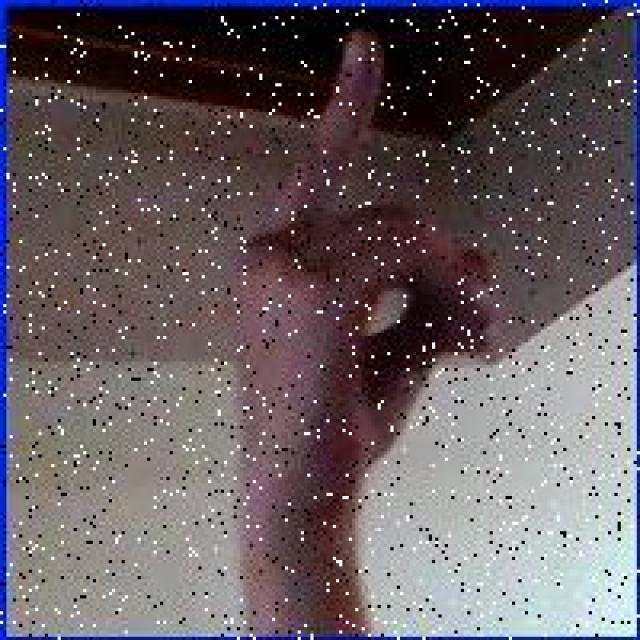D: (214, 24, 496, 594)
